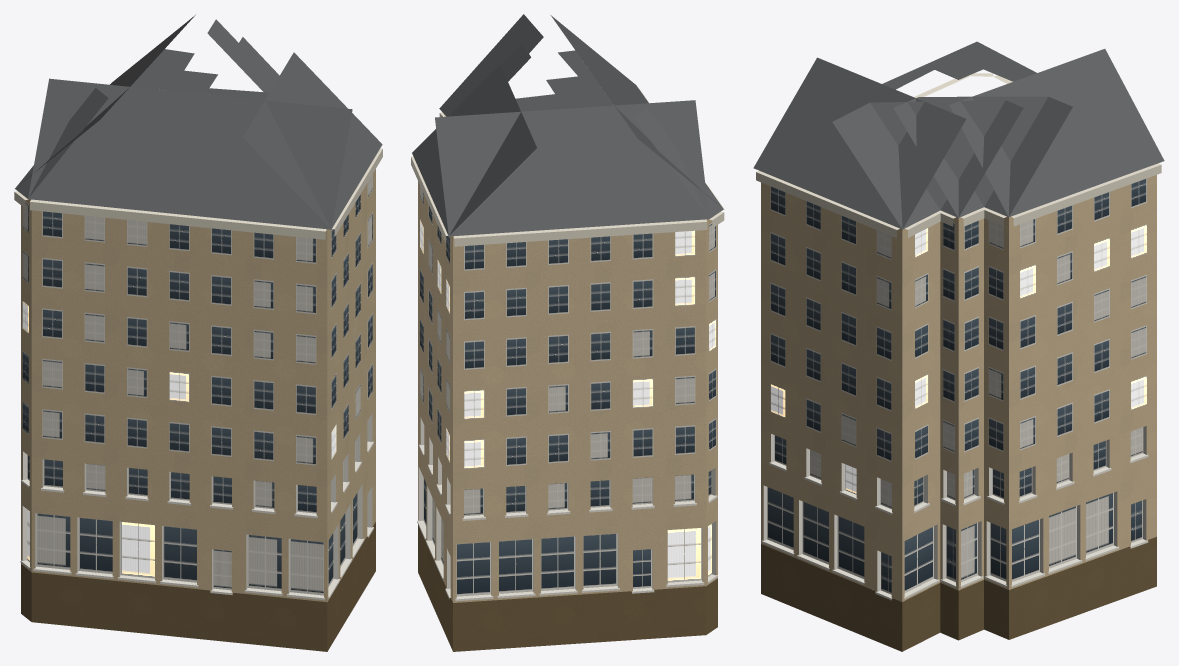
File: ida8.glb
3 renders of one model, left to right at view 1: azimuth 30°, elevation 25°; view 2: azimuth 150°, elevation 25°; view 3: azimuth 270°, elevation 25°, orthographic.
Visible parts, largest first — view 1: ida8; view 2: ida8; view 3: ida8.
Part boxes in pixels (box(x1,y1,x2,y2)): ida8: box(14, 15, 382, 651); ida8: box(411, 14, 724, 651); ida8: box(753, 41, 1164, 651).
Size of the model in its own units: 20.42 by 30.64 by 22.45.
3 materials, 3 textured.
